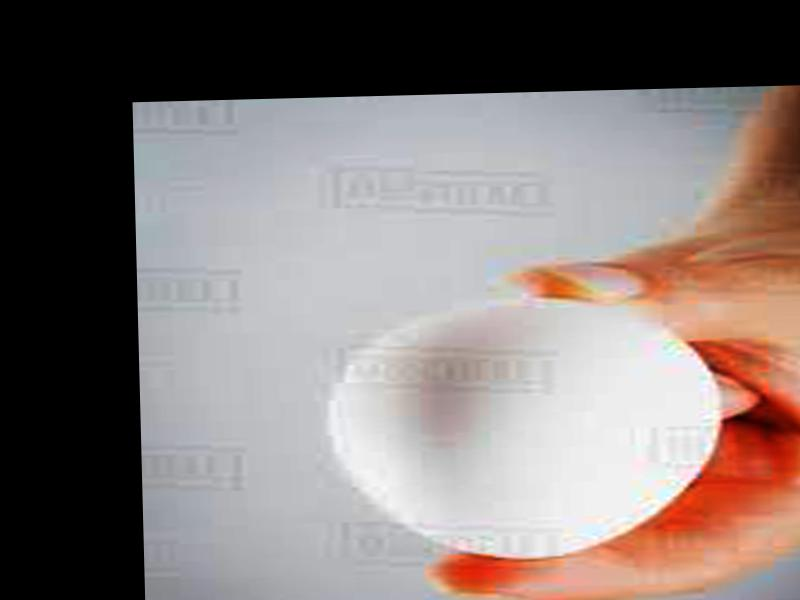Eggs: (330, 294, 708, 565)
